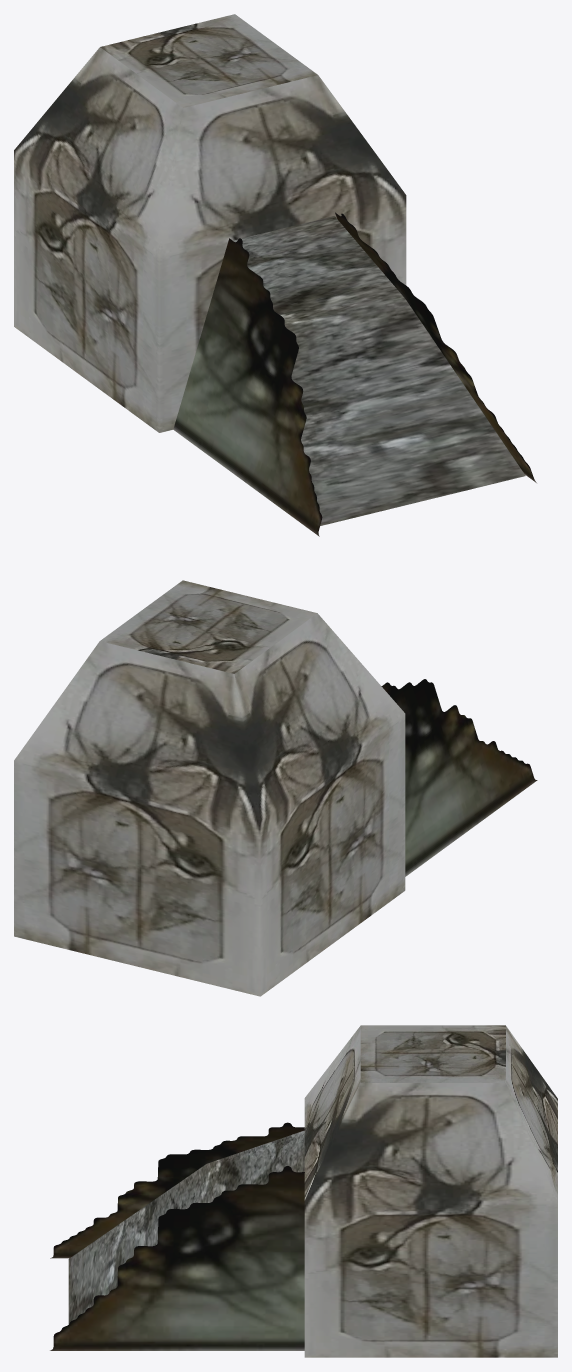
The model's file is l_lightwall_dam_hdtex.glb.
The picture shows the model from 3 angles, top to bottom: view 1: azimuth 30°, elevation 25°; view 2: azimuth 150°, elevation 25°; view 3: azimuth 270°, elevation 25°; orthographic projection. The views are drawn at different scales.
Visible parts, largest first — view 1: L_LightWallDAM; view 2: L_LightWallDAM; view 3: L_LightWallDAM.
Boxes of the visible parts, box(x1,y1,x2,y2) form: L_LightWallDAM: box(14, 14, 536, 536); L_LightWallDAM: box(14, 580, 537, 996); L_LightWallDAM: box(50, 1025, 557, 1357).
Size of the model in its own units: 4.16 by 4.63 by 9.1.
1 material, 1 textured.
